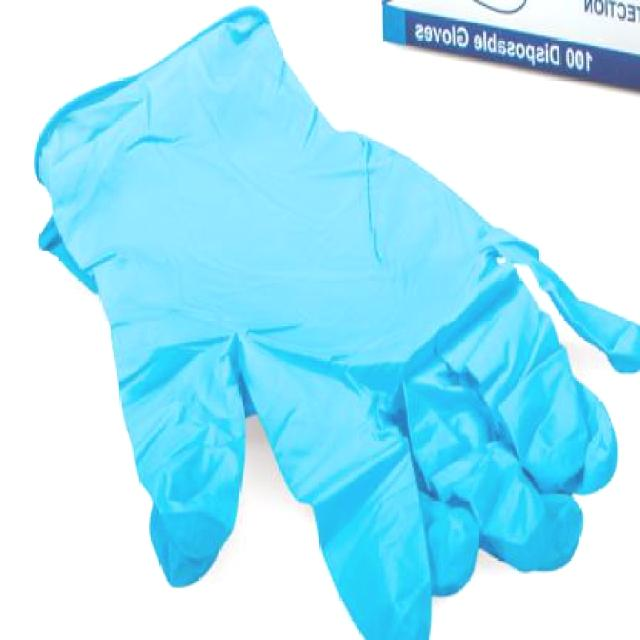glove: (6, 15, 640, 638)
